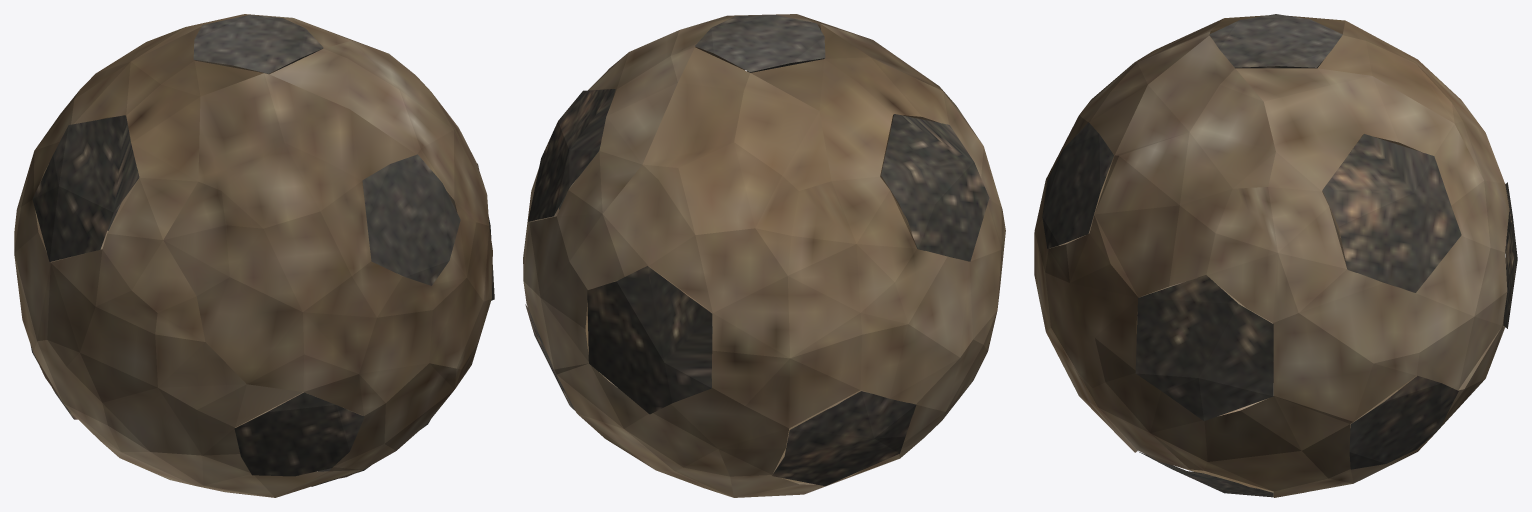
Rendered from SoccerBall.fbx.
3 renders of one model, left to right at view 1: azimuth 30°, elevation 25°; view 2: azimuth 150°, elevation 25°; view 3: azimuth 270°, elevation 25°, orthographic.
Parts seen in each view (by area): view 1: Icosphere; view 2: Icosphere; view 3: Icosphere.
Part boxes in pixels (bbox=[...]): Icosphere: bbox=[14, 14, 494, 497]; Icosphere: bbox=[523, 14, 1005, 497]; Icosphere: bbox=[1034, 14, 1517, 497].
Bounding box in the file's own units: 185 × 185 × 185.
1 material, 1 textured.
